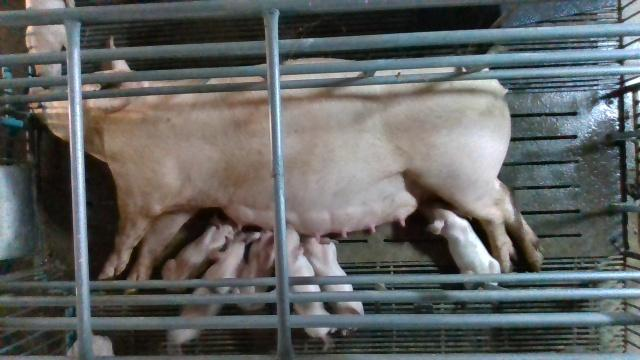piglet: (169, 243, 245, 344), (420, 202, 501, 288), (272, 224, 331, 337), (304, 236, 364, 332), (162, 214, 235, 291), (26, 0, 65, 93), (238, 229, 276, 310)
sow-sleep-lactate: (32, 35, 543, 291)
